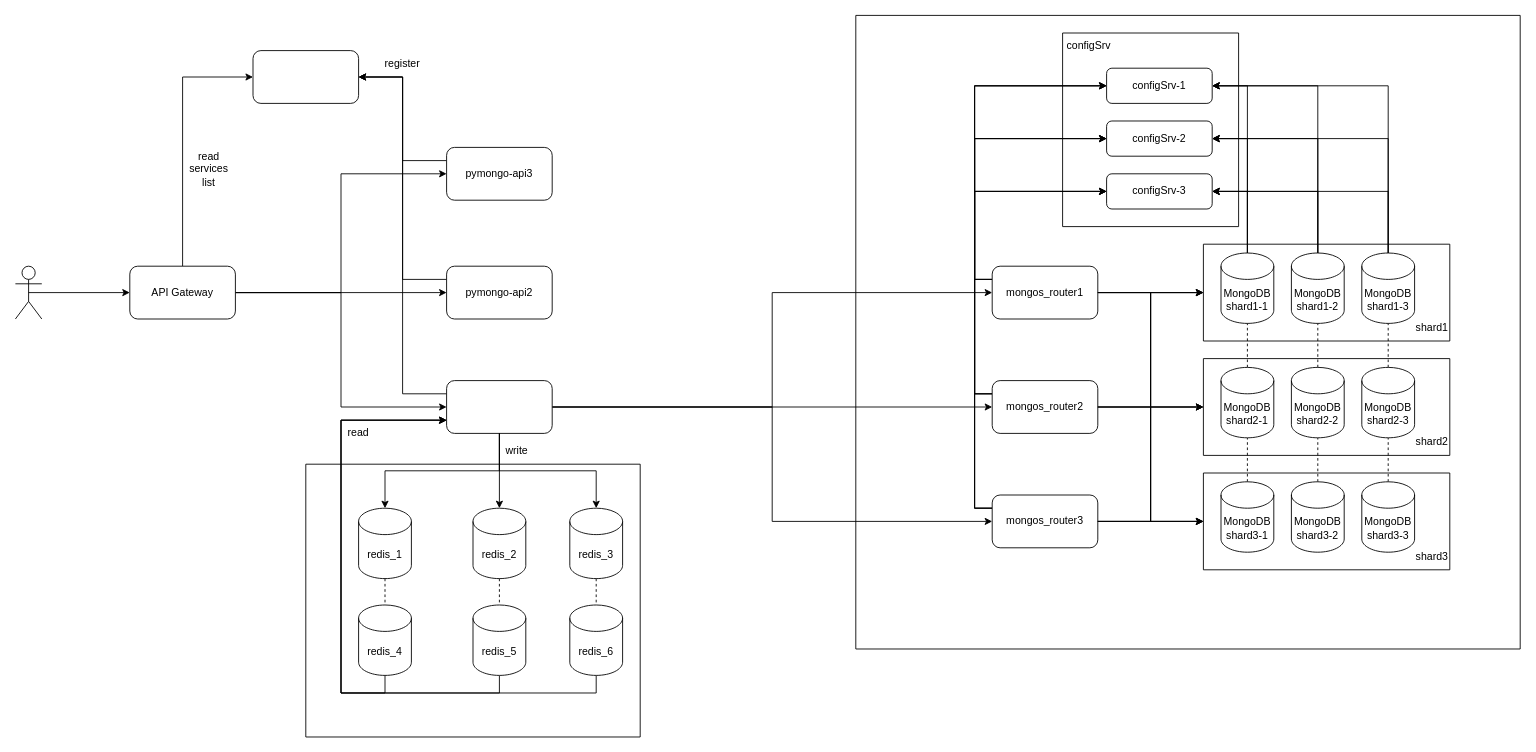
Some shapes in this 1536 by 752 pixel diagram are drawn without their labels. The box of each missing label's shape, as (x1, y1, x2, y2) in pixels:
Consul: (252, 50, 359, 103)
MongoDB: (855, 15, 1520, 649)
pymongo-api: (446, 380, 552, 433)
Redis Cache: (305, 463, 640, 737)
User: (15, 265, 42, 319)
